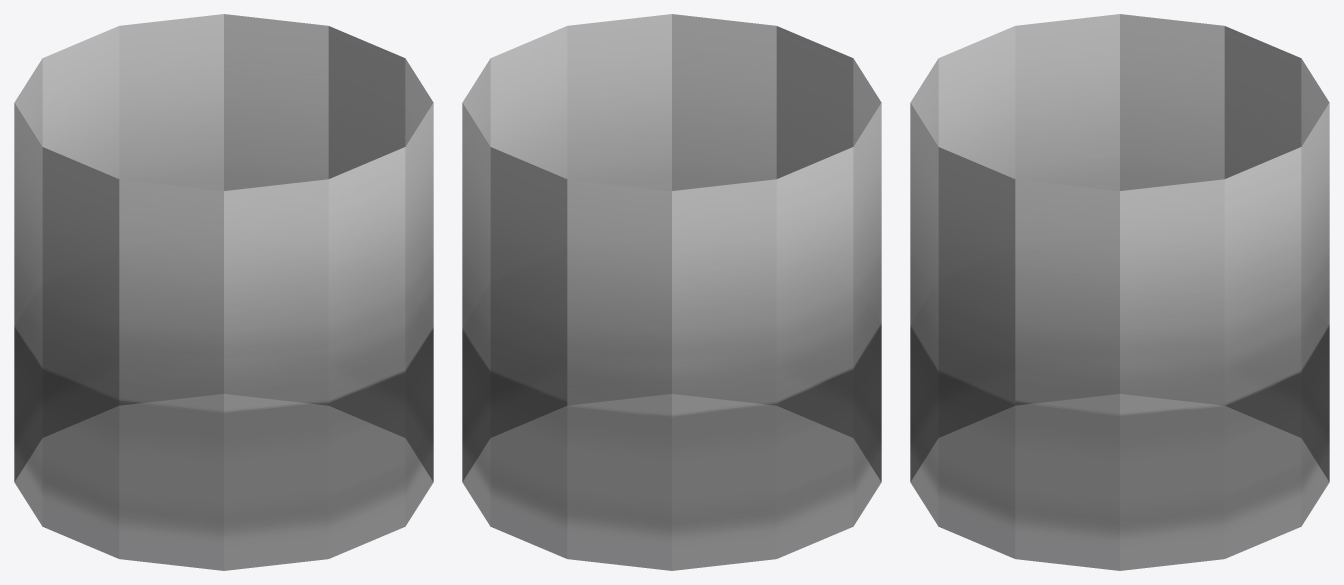
Rendered from fog.glb.
The picture shows the model from 3 angles, left to right: view 1: azimuth 30°, elevation 25°; view 2: azimuth 150°, elevation 25°; view 3: azimuth 270°, elevation 25°; orthographic projection.
Parts seen in each view (by area): view 1: fog; view 2: fog; view 3: fog.
Part boxes in pixels (x1,y1,x2,y2): fog: (14,14,433,570); fog: (462,14,881,570); fog: (910,14,1329,570).
Size of the model in its own units: 2 by 2 by 2.
1 material, 1 textured.
